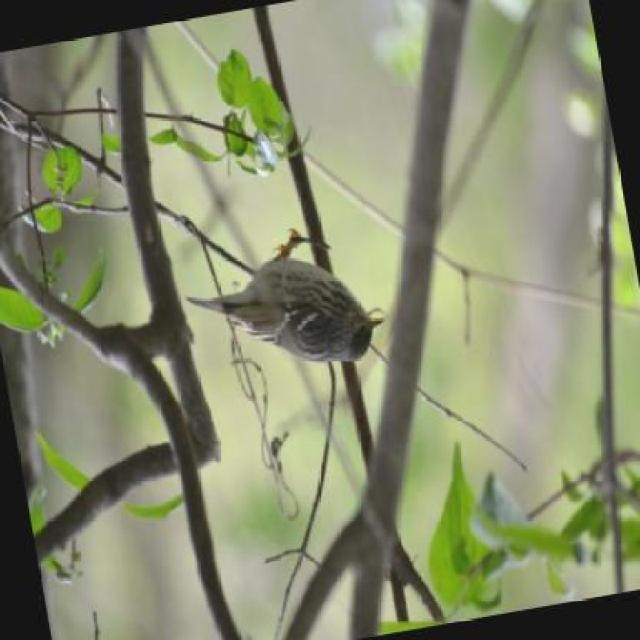sparrow: (188, 226, 384, 385)
